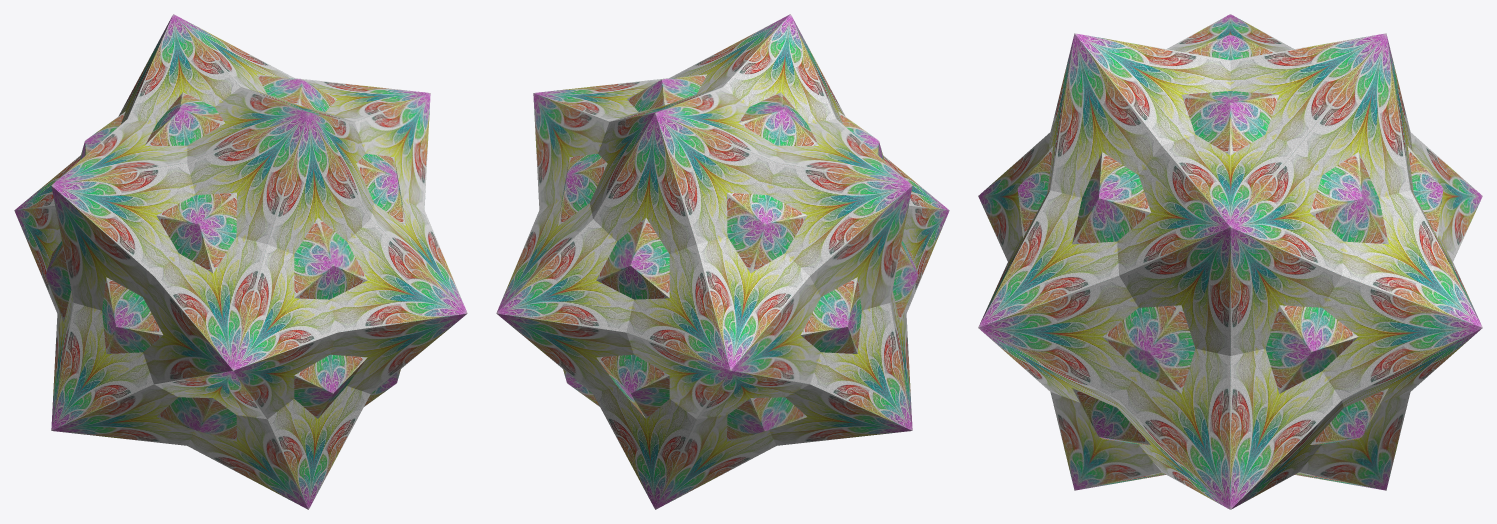
The model's file is GreatDitrigonalDodecacronicHexecontahedron6.obj.
3 renders of one model, left to right at view 1: azimuth 30°, elevation 25°; view 2: azimuth 150°, elevation 25°; view 3: azimuth 270°, elevation 25°, orthographic. The views are drawn at different scales.
Size of the model in its own units: 2.35 by 2.35 by 2.35.
1 material, 1 textured.
